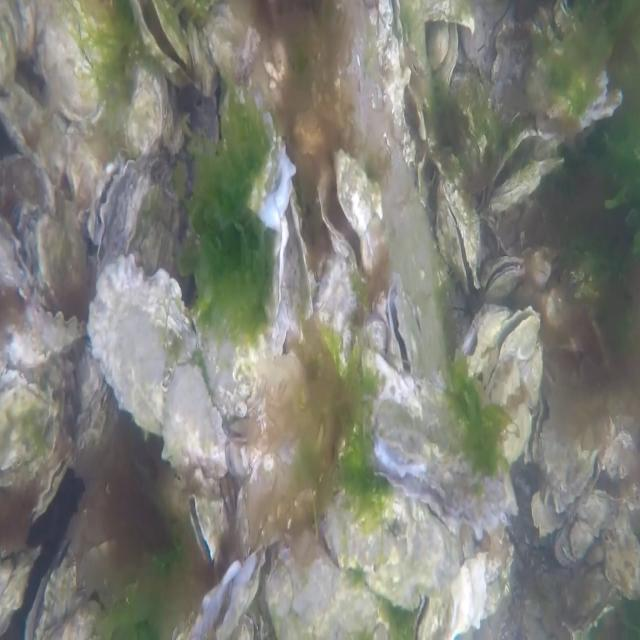Oyster-Closed: (41, 0, 127, 125), (488, 158, 563, 218), (31, 448, 72, 523), (34, 300, 87, 353), (399, 0, 427, 71), (364, 314, 389, 362)
Oyster-Indeterminate: (87, 254, 227, 466), (321, 489, 453, 613), (248, 352, 304, 520), (0, 370, 66, 489), (0, 81, 72, 176), (34, 209, 89, 302), (318, 255, 357, 374), (125, 70, 168, 156), (0, 0, 39, 94)
Oyster-Open: (371, 388, 507, 542), (206, 2, 296, 232), (316, 146, 389, 279), (25, 530, 106, 640), (377, 0, 426, 165), (190, 541, 266, 640), (535, 399, 603, 509), (476, 306, 541, 407), (433, 186, 482, 297), (128, 0, 194, 76), (278, 184, 314, 323), (454, 305, 511, 382), (89, 154, 134, 248), (386, 274, 420, 380), (0, 211, 40, 293), (188, 495, 225, 565), (481, 256, 524, 298)
